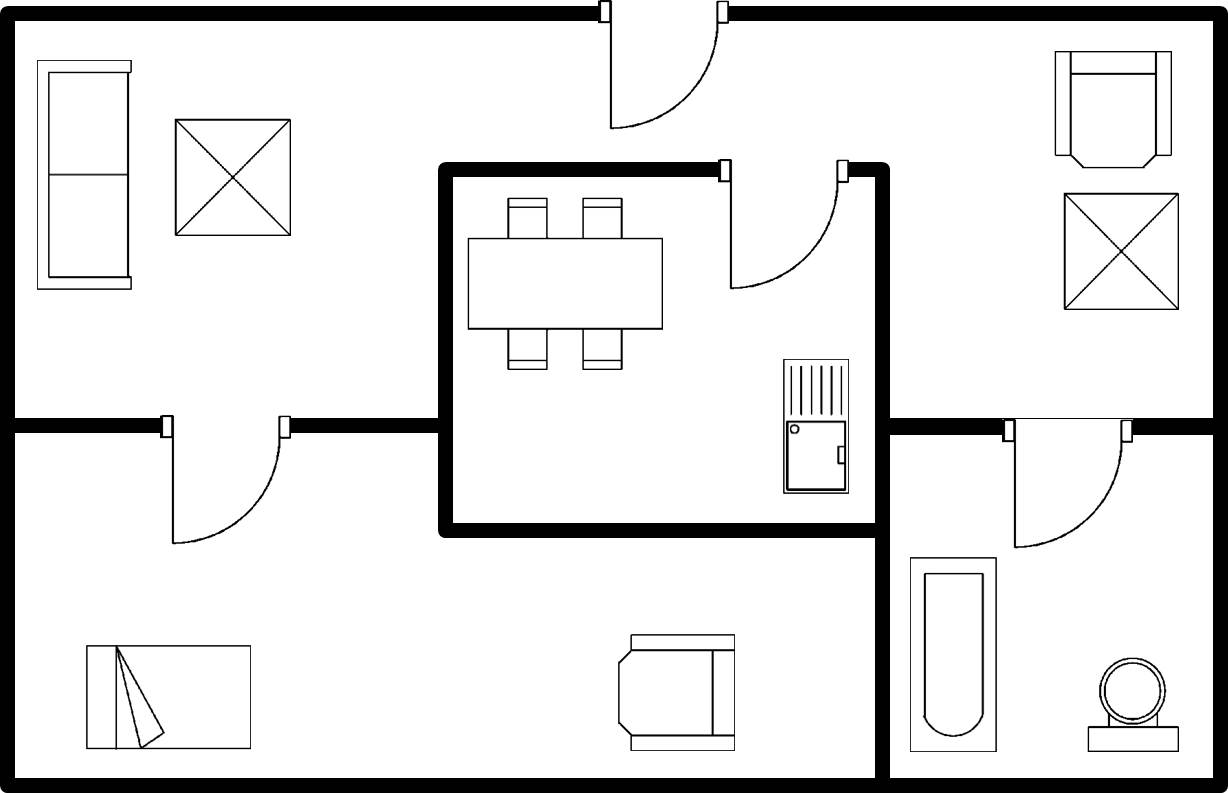armchair: (1047, 40, 1178, 177), (609, 628, 747, 758)
bed: (81, 637, 257, 755)
coffee_table: (166, 112, 300, 244), (1056, 185, 1184, 317)
dining_table: (462, 191, 679, 378)
large_sink: (1082, 650, 1189, 758)
large_sofa: (30, 54, 142, 298)
sink: (775, 352, 856, 500)
tub: (905, 553, 1004, 759)
